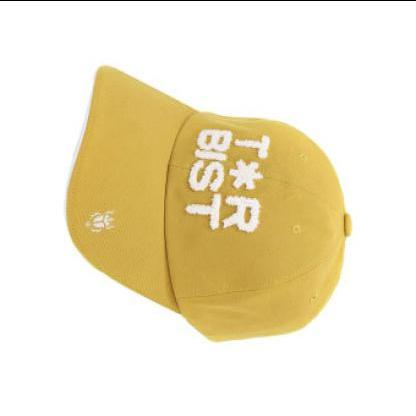cap: (62, 52, 360, 352)
